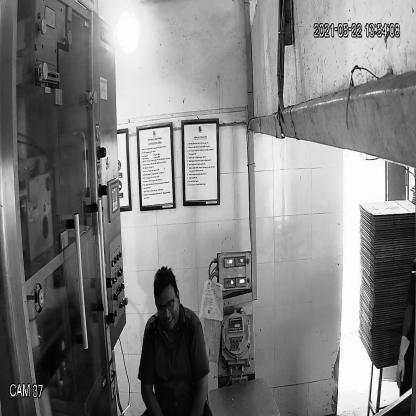goggles: (154, 294, 179, 317)
